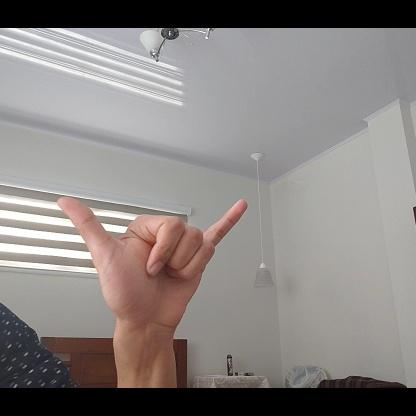Y: (56, 193, 250, 332)
